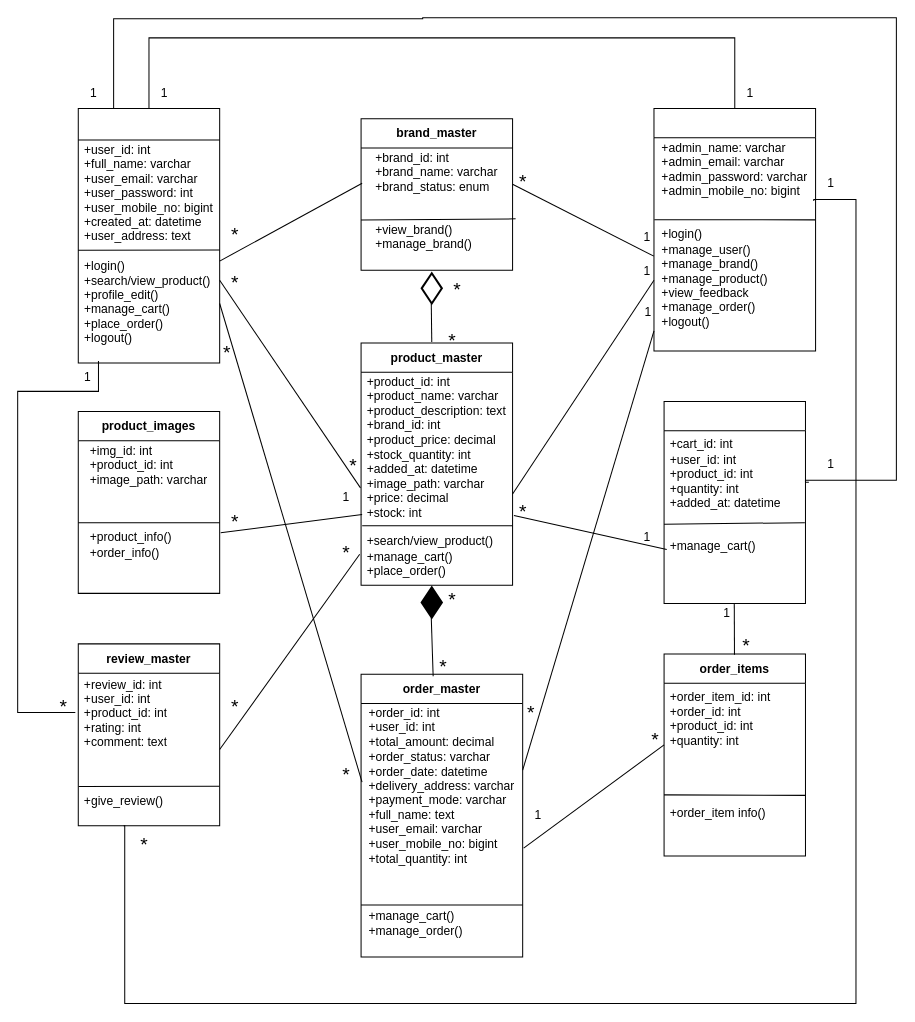
Some shapes in this 915 by 1022 pixel diagram are drawn without their labels. The box of each missing label's shape, as (x1, y1, x2, y2) in pixels:
admin_master: (653, 108, 816, 351)
cart_master: (663, 400, 805, 603)
user_master: (77, 108, 220, 363)
